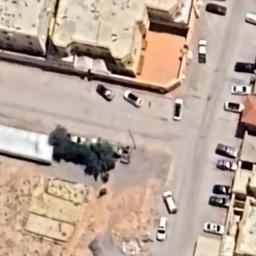SUV: (156, 215, 167, 241), (70, 136, 86, 144)
pickup: (96, 85, 114, 101)
sedan: (123, 90, 144, 107), (205, 3, 228, 15), (224, 100, 244, 112), (204, 222, 224, 234), (234, 62, 256, 72), (208, 196, 230, 206), (198, 40, 207, 62), (174, 98, 182, 120), (230, 86, 252, 94), (214, 184, 232, 193)
truck: (215, 144, 239, 156), (217, 159, 237, 170)
unknown: (245, 12, 256, 24)
van: (163, 190, 178, 214)
